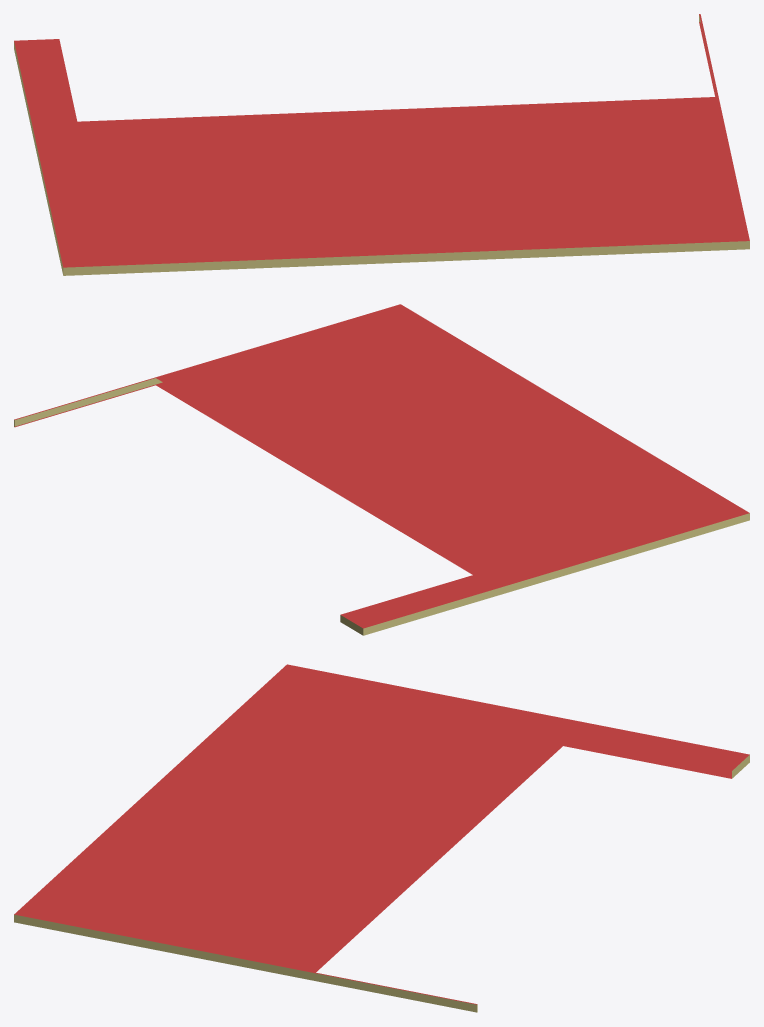
3 renders of one model, top to bottom at view 1: azimuth 30°, elevation 25°; view 2: azimuth 150°, elevation 25°; view 3: azimuth 270°, elevation 25°, orthographic. The views are drawn at different scales.
Bounding box in the file's own units: 9.32 × 8.51 × 0.1.
